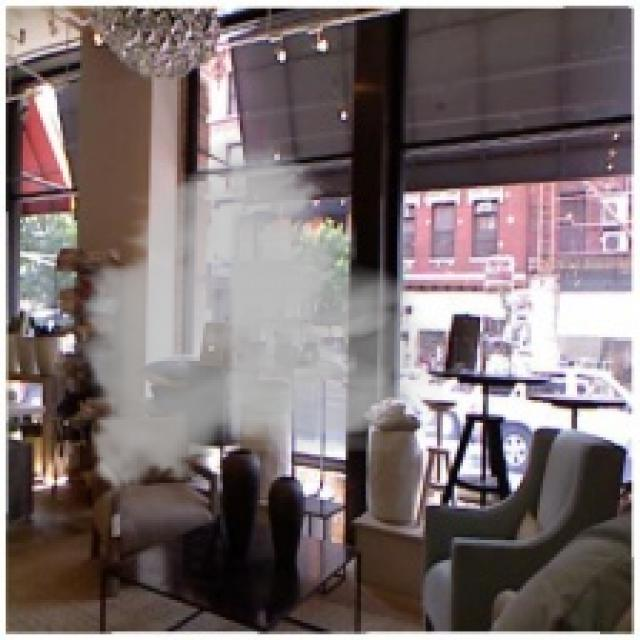smoke: (66, 126, 443, 508)
